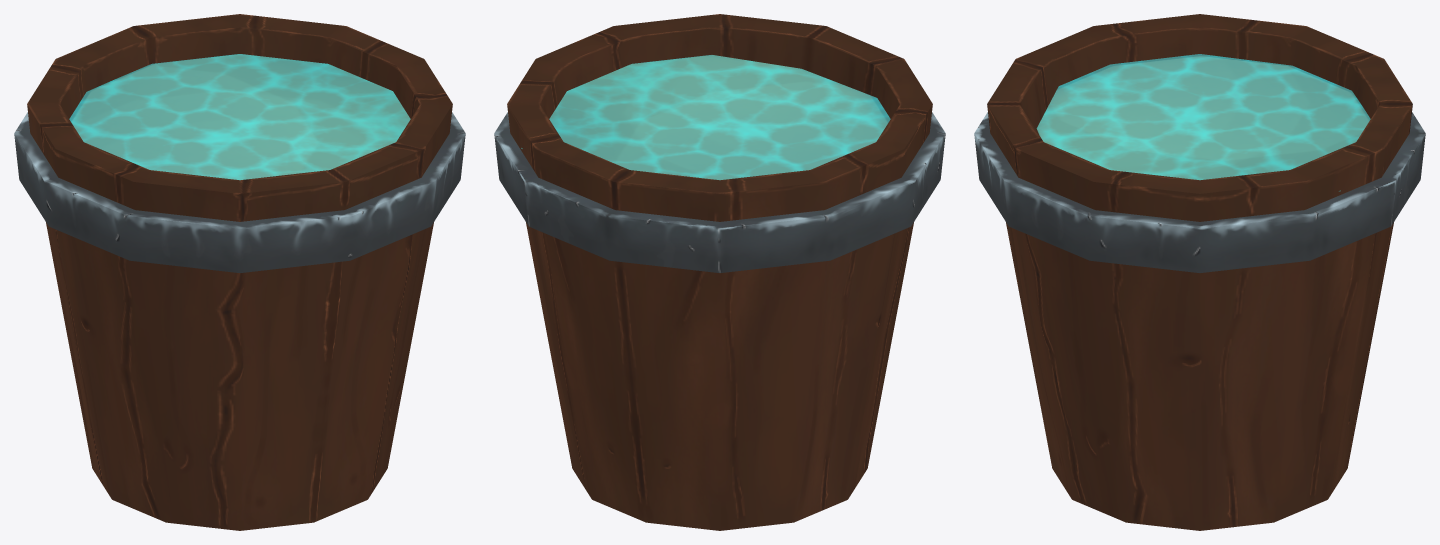
File: bathroom_bucket_fullV01.glb
3 views of the same model, side by side, from view 1: azimuth 30°, elevation 25°; view 2: azimuth 150°, elevation 25°; view 3: azimuth 270°, elevation 25° (orthographic).
Visible parts, largest first — view 1: Bucket, Plane; view 2: Bucket, Plane; view 3: Bucket, Plane.
Part boxes in pixels (x1,y1,x2,y2): Bucket: (14,14,465,530); Plane: (69,54,410,180); Bucket: (494,14,945,530); Plane: (521,55,890,180); Bucket: (974,14,1425,530); Plane: (1036,54,1370,191).
Size of the model in its own units: 0.3485 by 0.3105 by 0.3485.
Materials: 2 (2 with a texture image).
